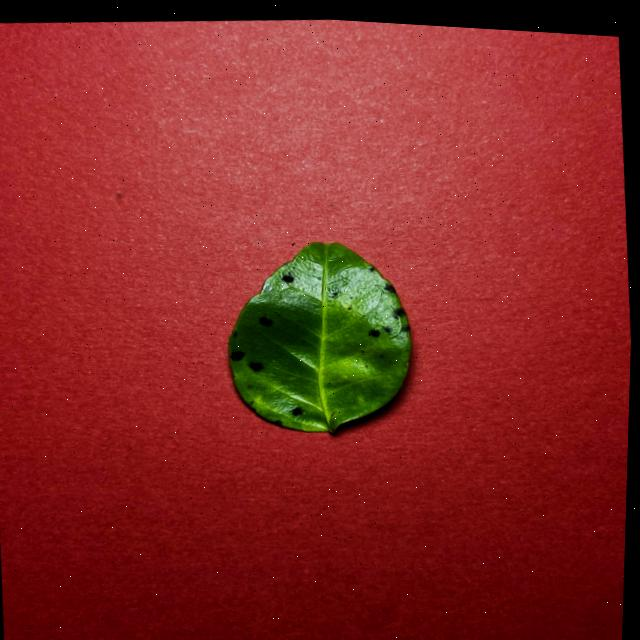sooty_mold: (227, 241, 410, 431)
